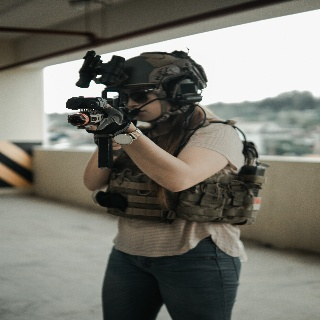rifle: (64, 87, 141, 170)
